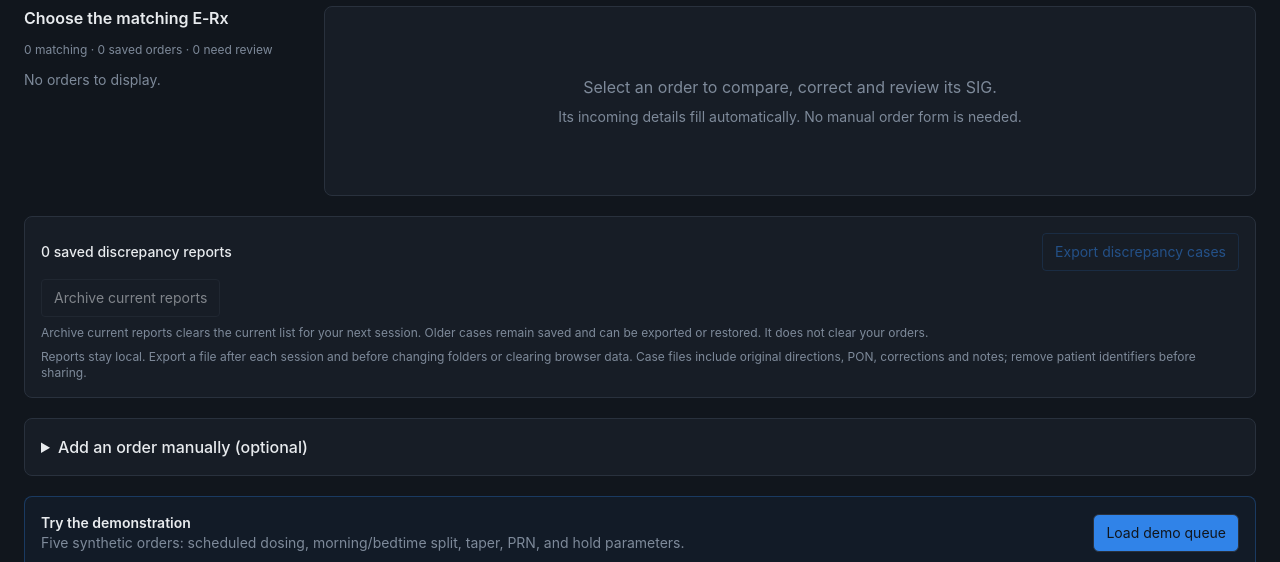
Test: demonstrates translation, review, clipboard, saved queue recovery and clearing through the UI
The image size is (1280, 562).
Later steps or results of the test are not shown.
(page scrolled)
Click the heading "Add an order manually (optional)" at (183, 447), box [58, 437, 308, 457]
(page scrolled)
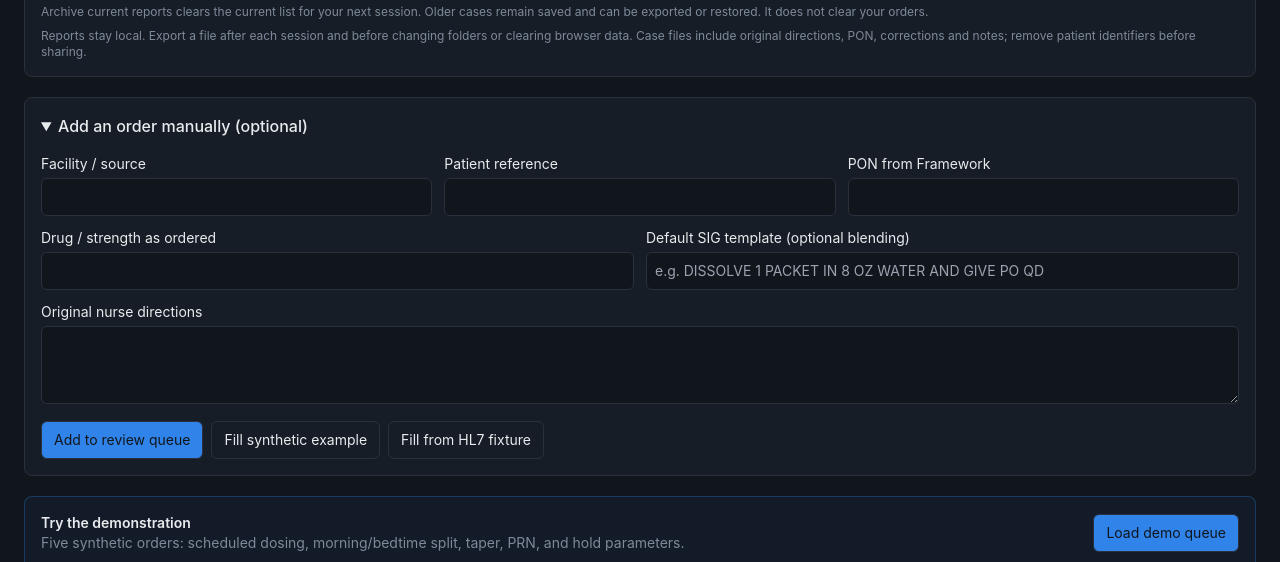
Click the button "Fill synthetic example" at (296, 440), box [212, 421, 380, 459]
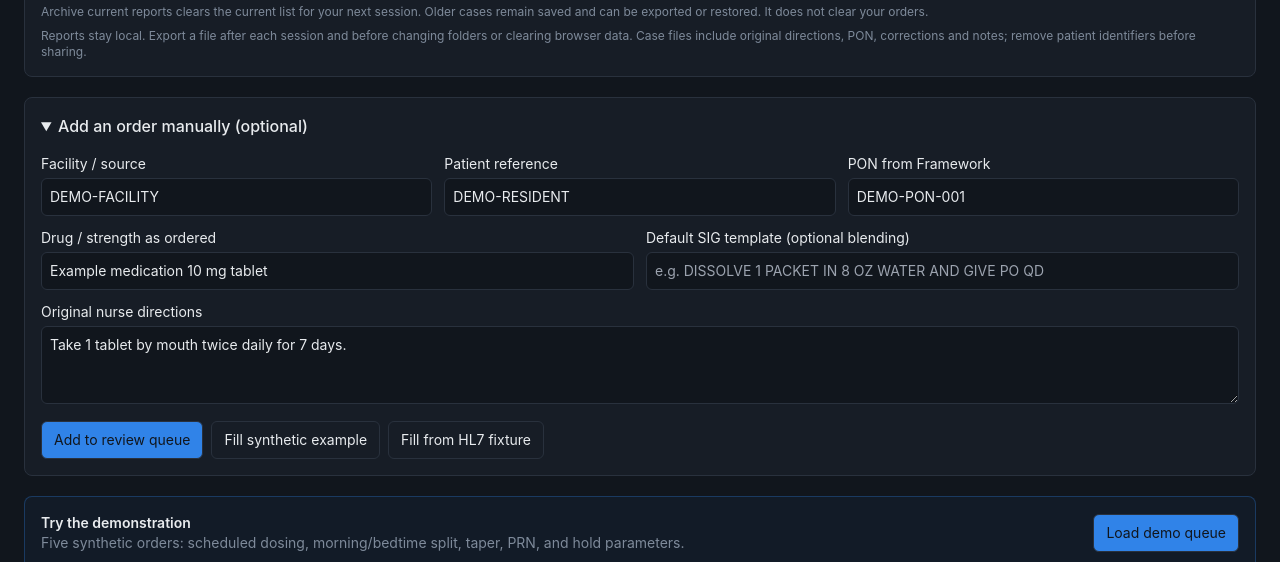
Click the button "Add to review queue" at (122, 440), box [41, 421, 204, 459]
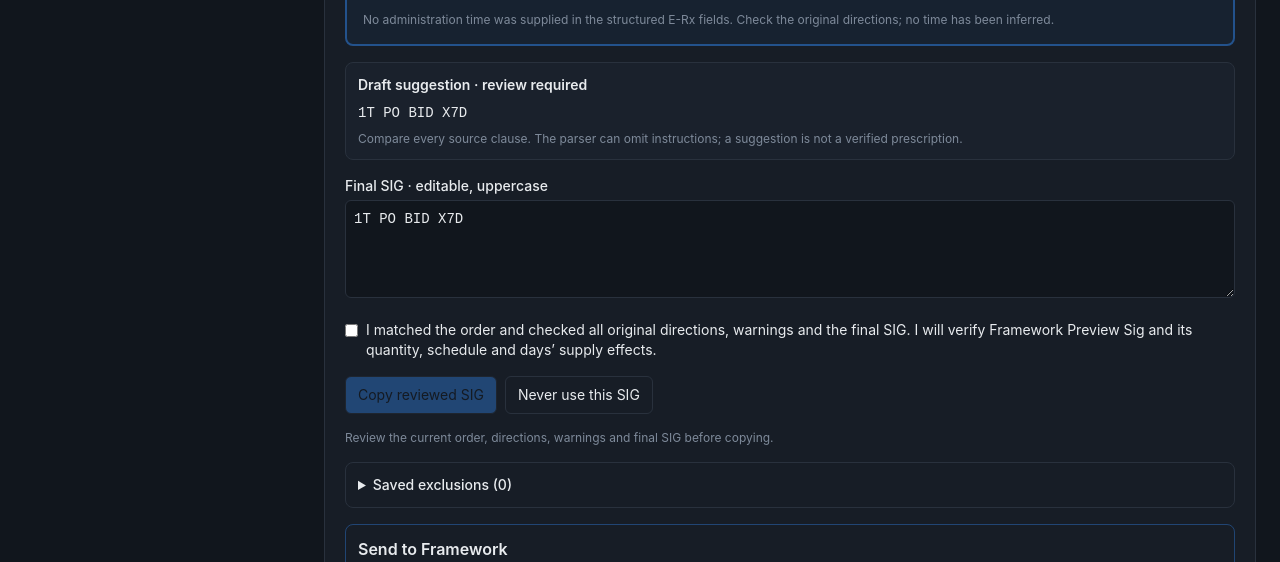
Expected: the text box labelled "Final SIG · editable, uppercase" holds "1T PO BID X7D", [345, 200, 1235, 298]
Expected: the button "Copy reviewed SIG" is disabled, [345, 376, 497, 414]
Click the checkbox labelled "I matched the order" at (352, 330), box [345, 324, 358, 337]
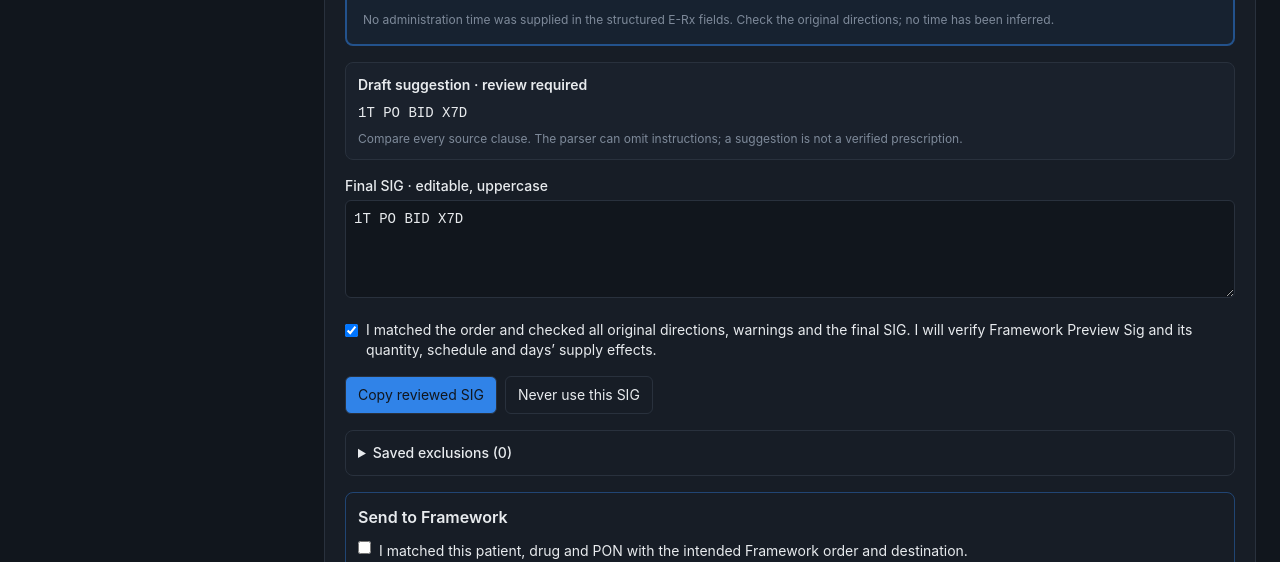
Click the button "Copy reviewed SIG" at (421, 395), box [345, 376, 497, 414]
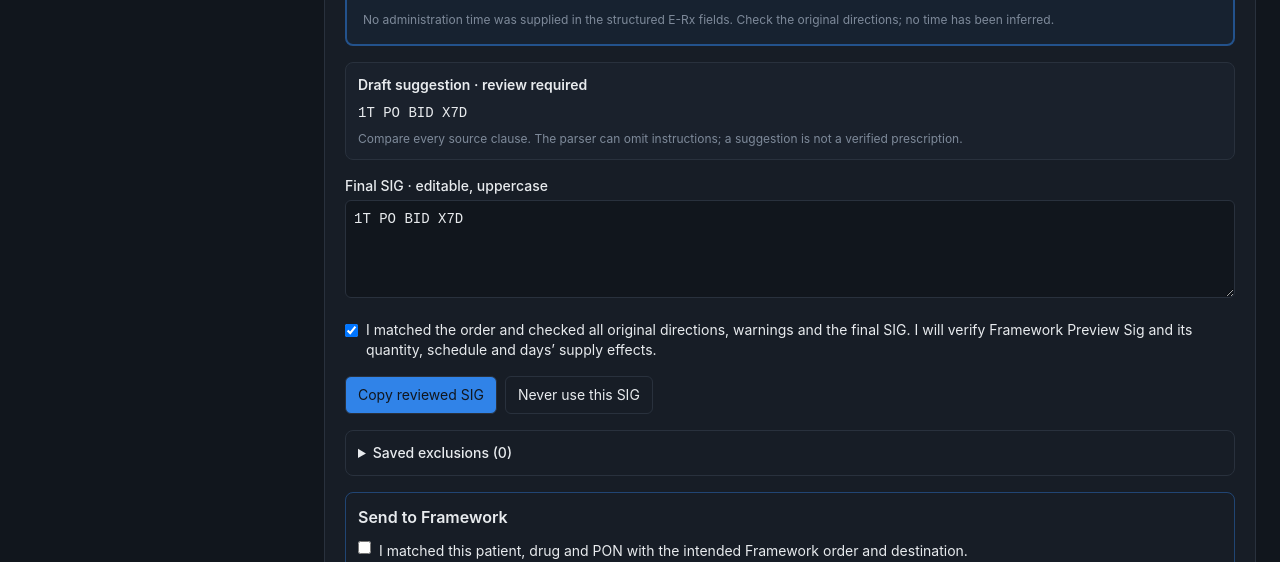
Replace the text in the text box labelled "Final SIG · editable, uppercase" with "1t po bid x7d (after meals)" at (790, 249), box [345, 200, 1235, 298]
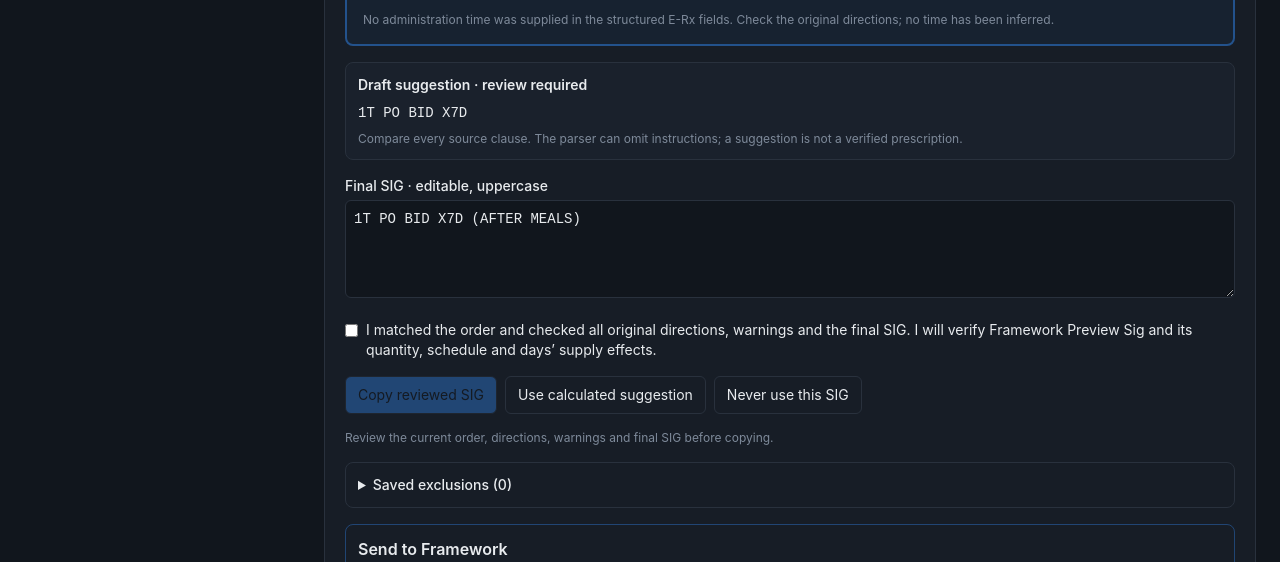
Expected: the button "Copy reviewed SIG" is disabled, [345, 376, 497, 414]
